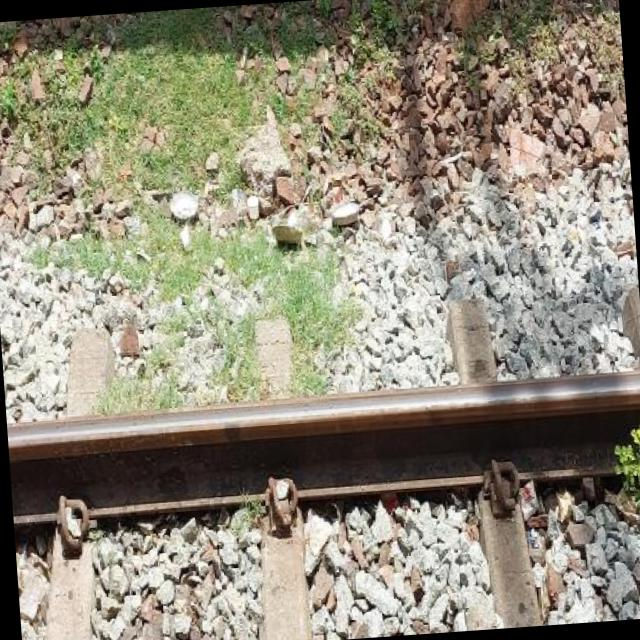non-defective: (3, 323, 640, 594)
